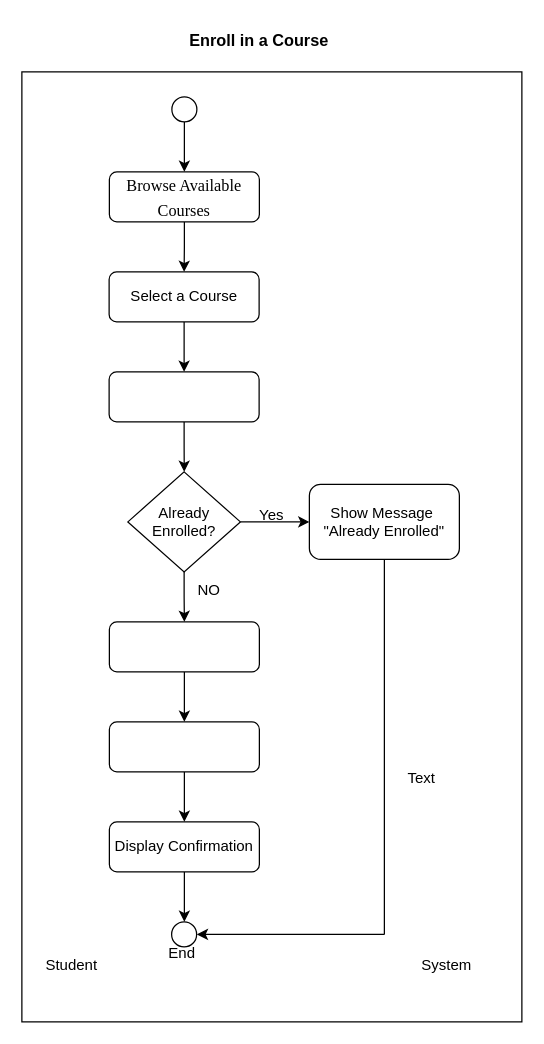
This 544x1044 diagram has some shape labels left out. Each missing label, with the box of its shape:
Choose Course: (108, 371, 259, 422)
Confirm Enrollment: (108, 621, 259, 672)
Update Database and Cofirmation Success: (108, 721, 259, 772)
